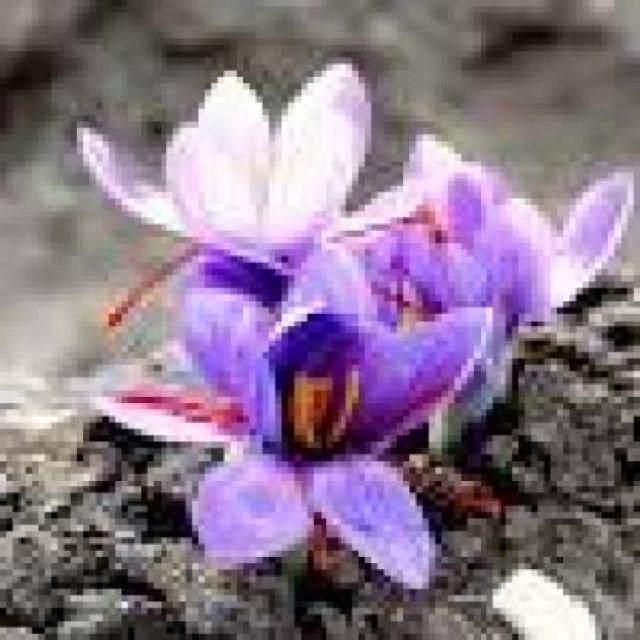Flower: (165, 250, 462, 565), (72, 72, 426, 266), (369, 134, 633, 352)
stigma: (102, 249, 199, 335)
